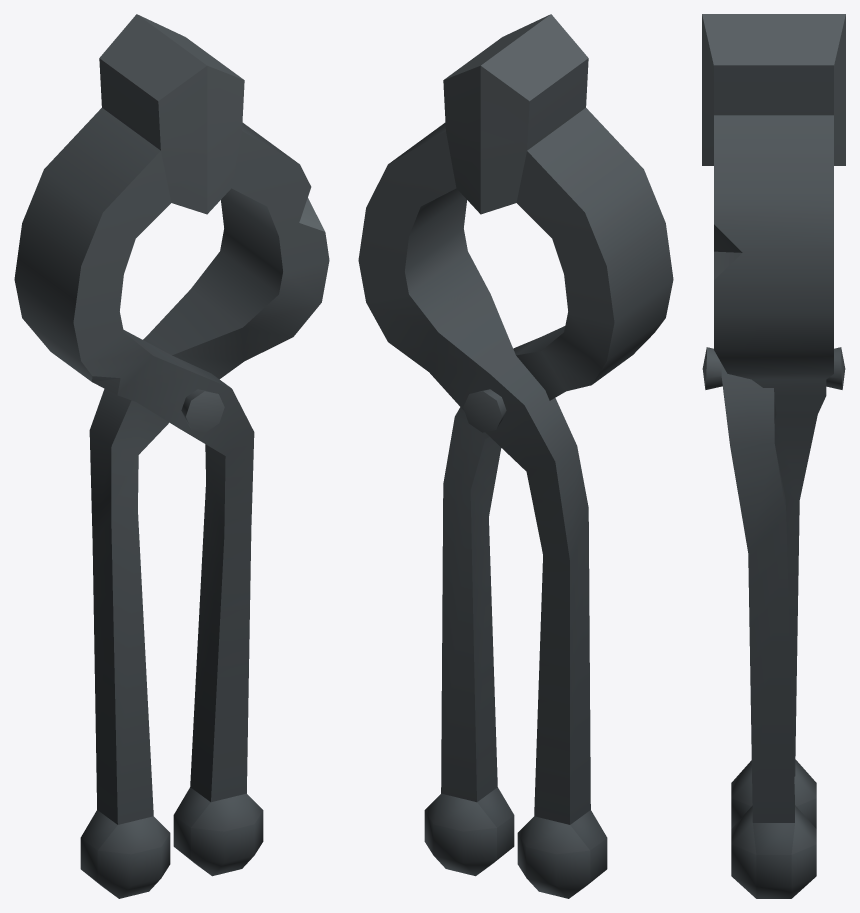
The model's file is tongs.fbx.
3 renders of one model, left to right at view 1: azimuth 30°, elevation 25°; view 2: azimuth 150°, elevation 25°; view 3: azimuth 270°, elevation 25°, orthographic.
Visible parts, largest first — view 1: tongs, tongs_part; view 2: tongs, tongs_part; view 3: tongs_part, tongs.
Boxes of the visible parts, x1,y1,x2,y2 form: tongs: (14,14,263,876); tongs_part: (80,15,329,898); tongs: (424,14,673,876); tongs_part: (358,15,607,898); tongs_part: (702,14,845,828); tongs: (702,347,845,898).
Size of the model in its own units: 41.14 by 129 by 19.64.
